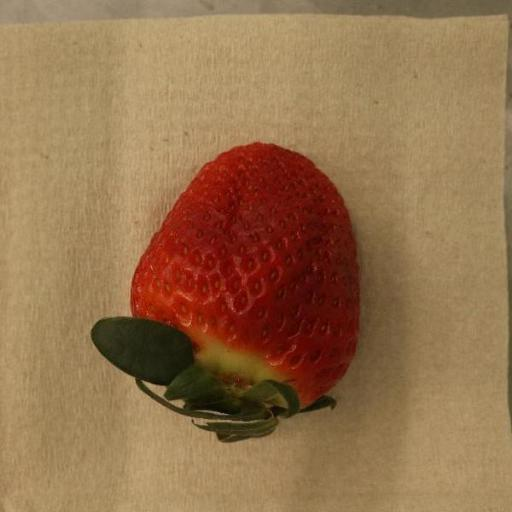Strawberry: (90, 143, 361, 445)
